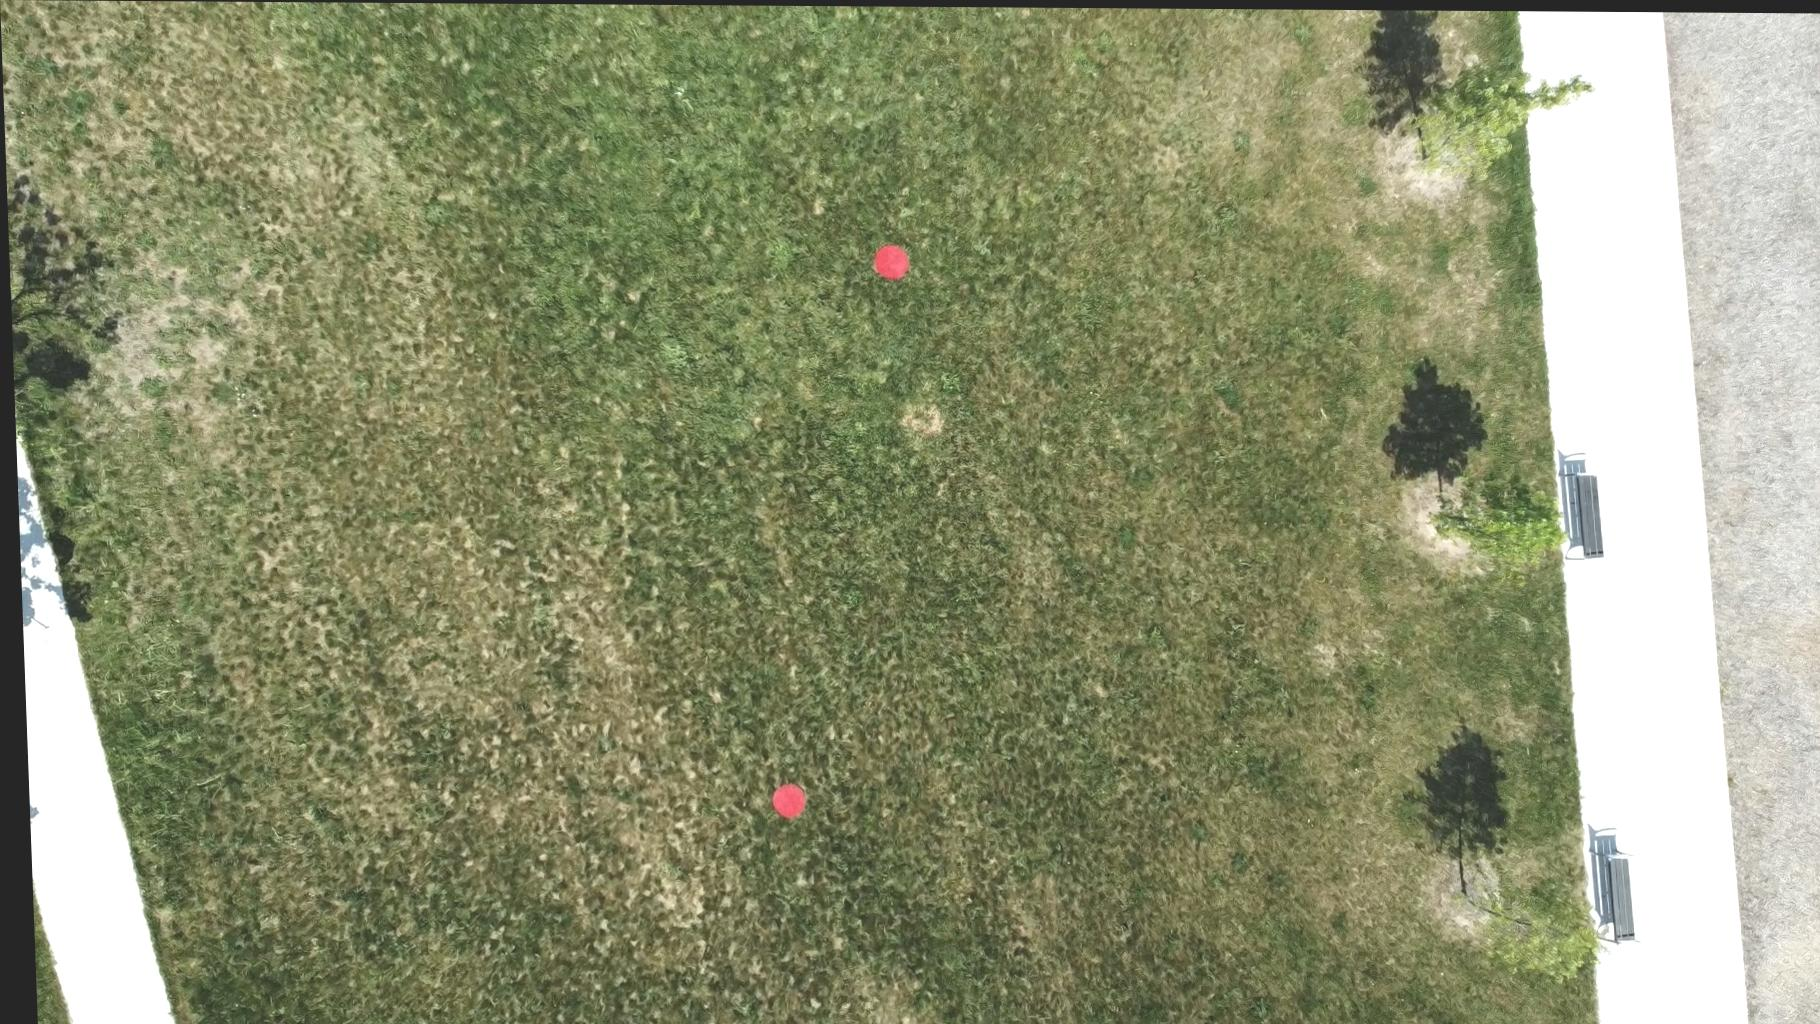Red: (762, 780, 802, 820), (870, 241, 909, 279)
